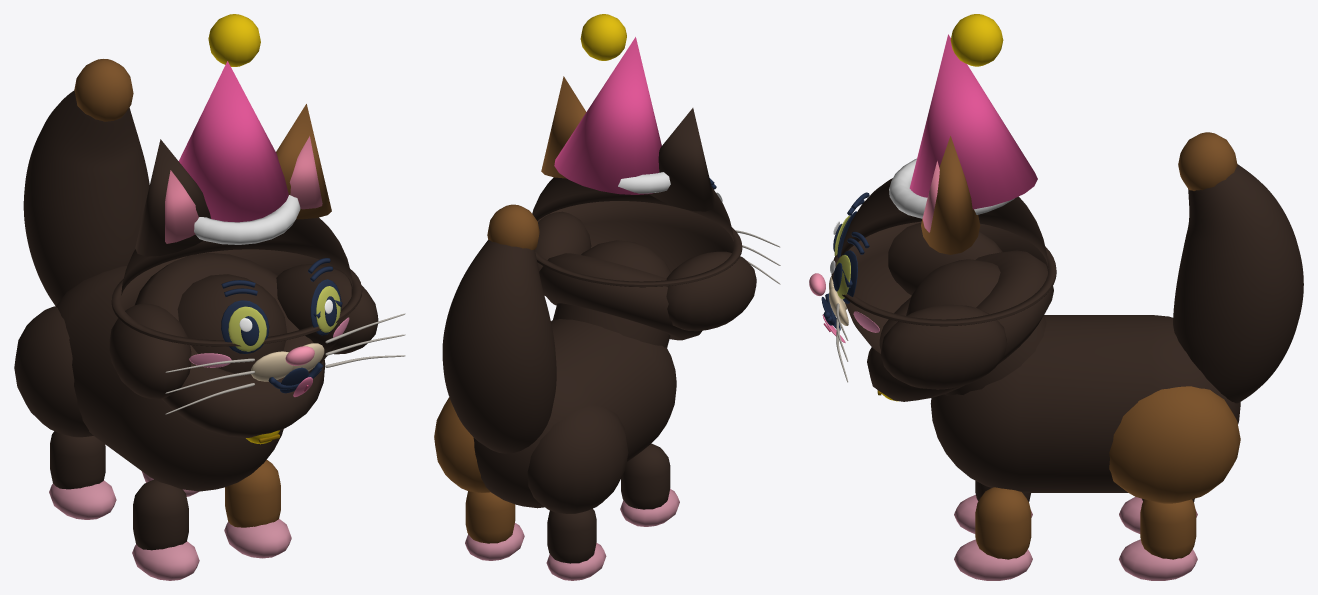
File: jinglebells.glb
The picture shows the model from 3 angles, left to right: view 1: azimuth 30°, elevation 25°; view 2: azimuth 150°, elevation 25°; view 3: azimuth 270°, elevation 25°; orthographic projection. The views are drawn at different scales.
Visible parts, largest first — view 1: Body, HeadMesh, TailMesh, Item_pethats, Ink_surprised_1D2A44, Ink_surprised_B9BD55, Ink_happy_D9C5A5, Ink_happy_1D2A44, Ink_silly_1D2A44, Ink_happy_FF9EC4; view 2: Body, HeadMesh, TailMesh, Item_pethats; view 3: Body, HeadMesh, TailMesh, Item_pethats, Ink_surprised_1D2A44.
Boxes of the visible parts, x1,y1,x2,y2 form: Body: [14, 252, 325, 580]; HeadMesh: [109, 104, 405, 414]; TailMesh: [23, 59, 149, 305]; Item_pethats: [178, 14, 300, 244]; Ink_surprised_1D2A44: [221, 258, 341, 393]; Ink_surprised_B9BD55: [228, 286, 340, 351]; Ink_happy_D9C5A5: [251, 343, 324, 381]; Ink_happy_1D2A44: [225, 266, 336, 389]; Ink_silly_1D2A44: [224, 266, 342, 389]; Ink_happy_FF9EC4: [189, 317, 349, 367]; Body: [434, 240, 702, 580]; HeadMesh: [532, 76, 780, 331]; TailMesh: [442, 204, 556, 453]; Item_pethats: [554, 14, 670, 194]; Body: [867, 250, 1240, 580]; HeadMesh: [831, 136, 1056, 389]; TailMesh: [1173, 132, 1303, 403]; Item_pethats: [889, 14, 1037, 218]; Ink_surprised_1D2A44: [821, 192, 869, 330].
Bounding box in the file's own units: 0.8577 × 1.82 × 1.5.
